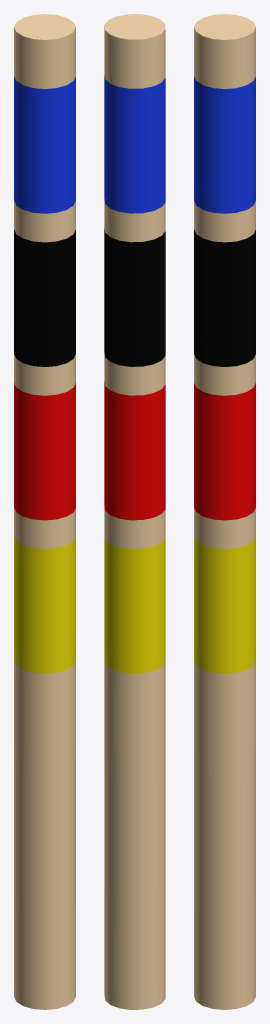
The model's file is peg.fbx.
The picture shows the model from 3 angles, left to right: view 1: azimuth 90°, elevation 25°; view 2: azimuth 150°, elevation 25°; view 3: azimuth 270°, elevation 25°; orthographic projection.
Parts seen in each view (by area): view 1: Post; view 2: Post; view 3: Post.
Part boxes in pixels (x1,y1,x2,y2): Post: (14,14,75,1009); Post: (104,14,165,1009); Post: (194,14,255,1009).
Size of the model in its own units: 3.01 by 3.01 by 52.12.
